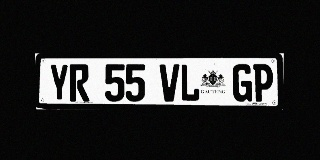5: (105, 64, 125, 102), (125, 64, 145, 102)
G: (232, 64, 253, 102)
L: (180, 64, 200, 102)
P: (253, 64, 273, 102)
R: (69, 64, 89, 102)
V: (160, 64, 179, 102)
Y: (49, 64, 69, 101)
